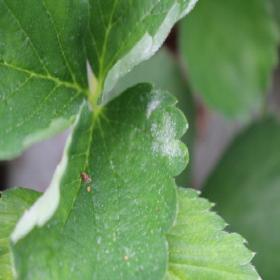Powdery Mildew Leaf: (8, 80, 190, 279), (83, 0, 199, 106)
